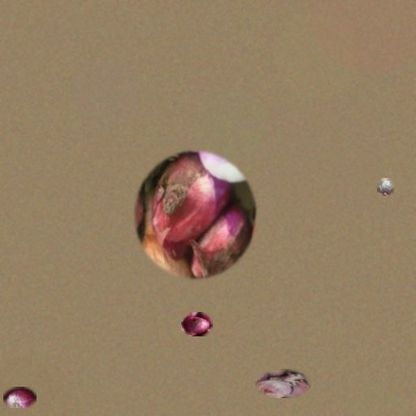damaged: (131, 147, 259, 283)
healthy: (181, 312, 213, 336), (3, 387, 37, 408)
rotten: (377, 178, 394, 196)
sprouted: (255, 369, 311, 398)
